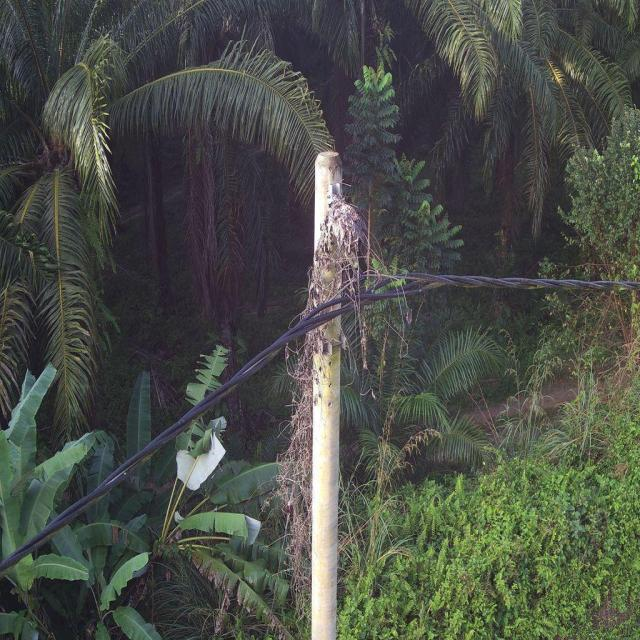critical vegetation: (270, 176, 376, 615)
